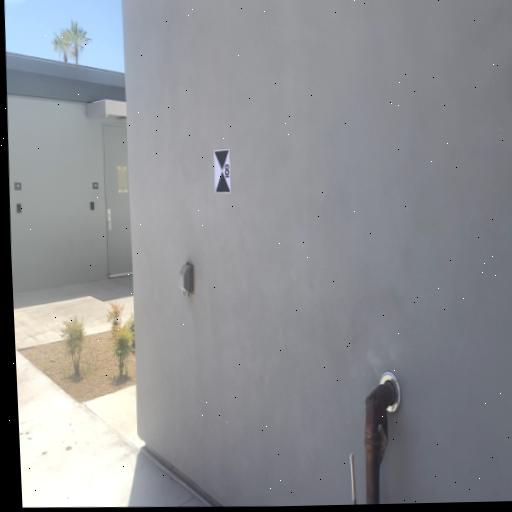target8: (214, 151, 232, 193)
